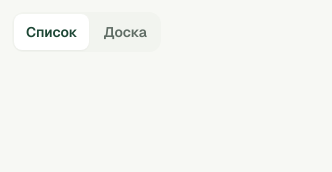
Scenario: SegmentedControl › клик по опции переключает выбор
Click the radio button labelled "Доска" at (125, 32), box [91,14,159,50]
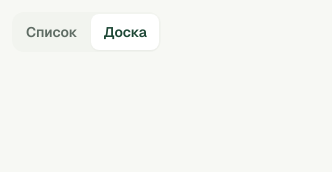
Check: the radio button labelled "Доска" is checked, box [91,14,159,50]
